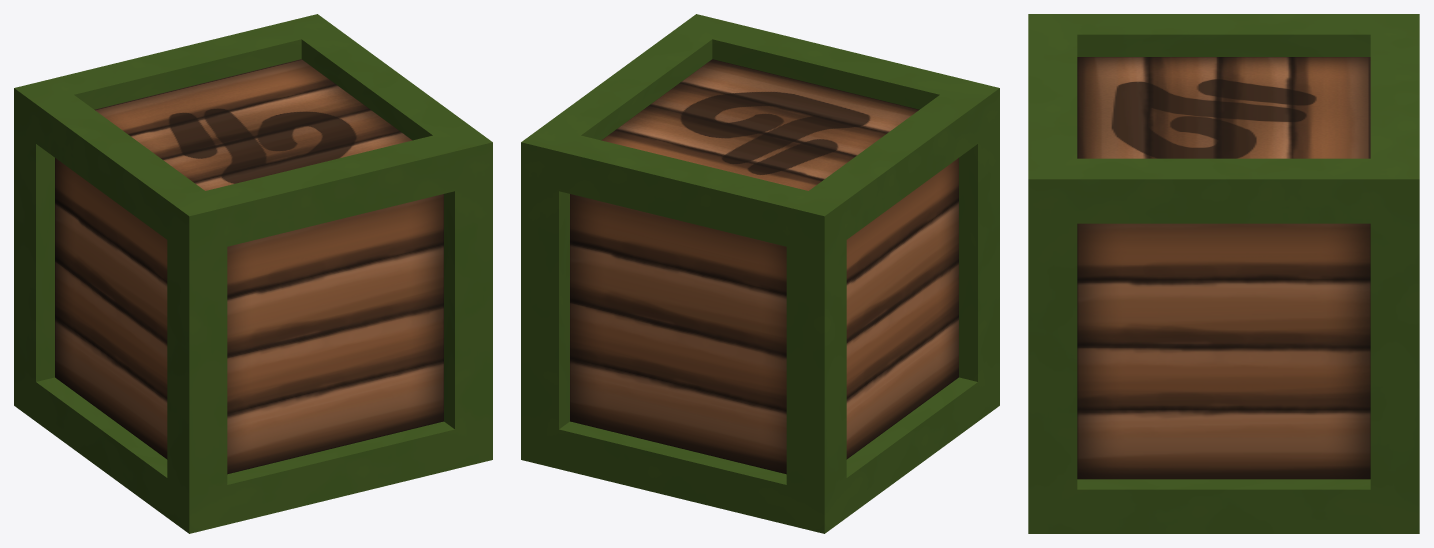
The model's file is Caisse_Verte.FBX.
3 renders of one model, left to right at view 1: azimuth 30°, elevation 25°; view 2: azimuth 150°, elevation 25°; view 3: azimuth 270°, elevation 25°, orthographic. The views are drawn at different scales.
Visible parts, largest first — view 1: Caisse_Vert; view 2: Caisse_Vert; view 3: Caisse_Vert.
Part boxes in pixels (x1,y1,x2,y2): Caisse_Vert: (14, 14, 492, 533); Caisse_Vert: (521, 14, 999, 533); Caisse_Vert: (1028, 14, 1419, 533).
Bounding box in the file's own units: 1.54 × 1.54 × 1.54.
